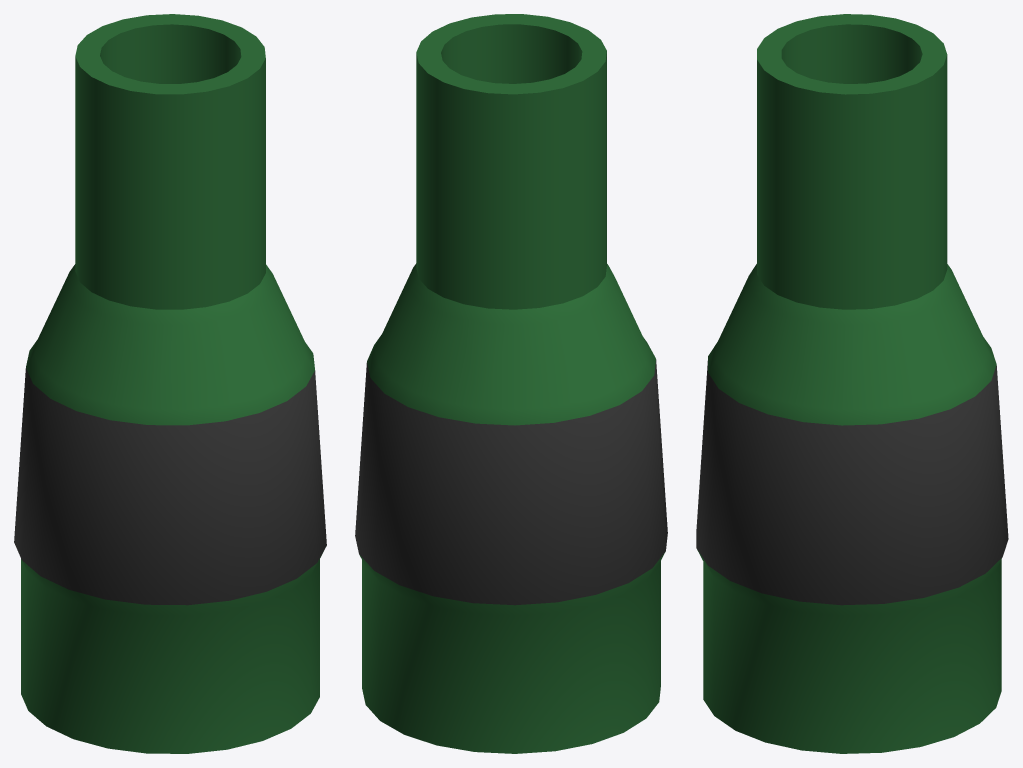
File: bottle.fbx
3 views of the same model, side by side, from view 1: azimuth 30°, elevation 25°; view 2: azimuth 150°, elevation 25°; view 3: azimuth 270°, elevation 25° (orthographic).
Parts seen in each view (by area): view 1: Cylinder; view 2: Cylinder; view 3: Cylinder.
Part boxes in pixels (left/top/right/bottom): Cylinder: left=14, top=14, right=326, bottom=753; Cylinder: left=355, top=14, right=667, bottom=753; Cylinder: left=696, top=14, right=1008, bottom=753.
Size of the model in its own units: 56.83 by 128 by 56.7.
